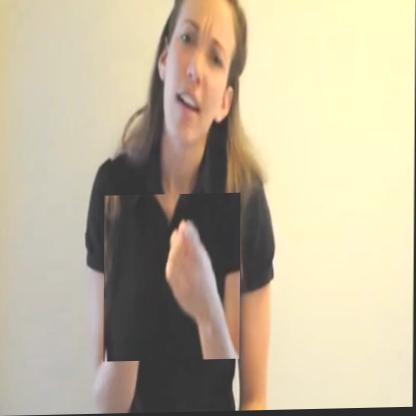HowAreYou: (104, 194, 241, 363)
